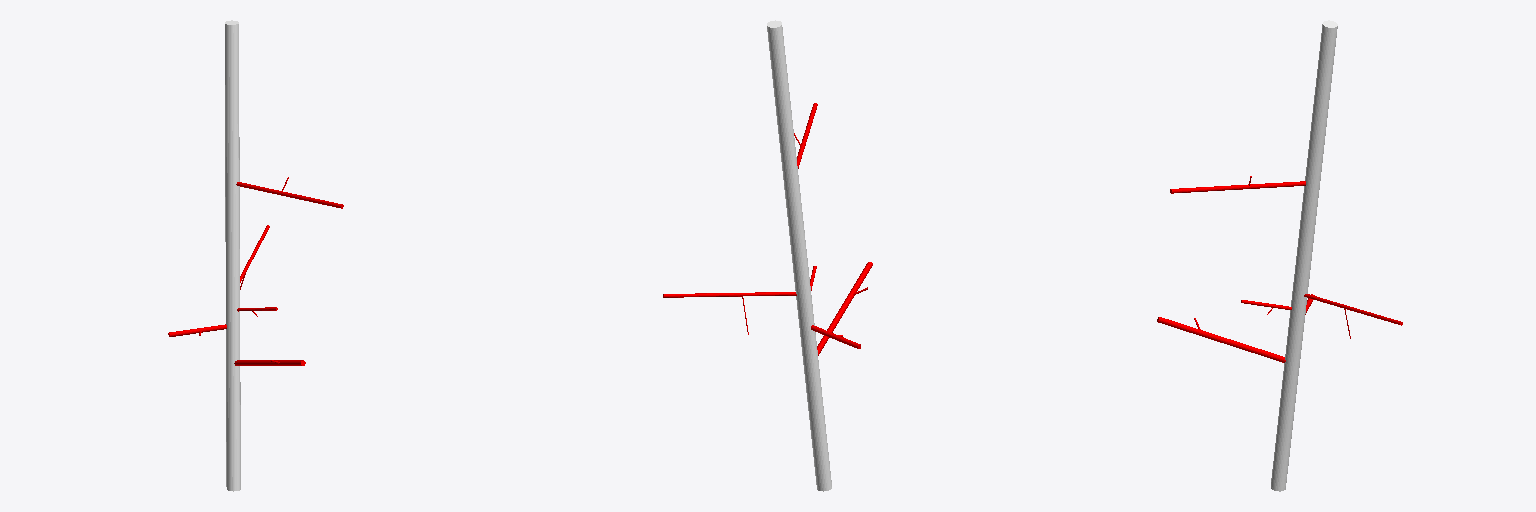
robot.urdf — tree_35.urdf:
<?xml version='1.0' encoding='UTF-8'?>
<robot name="tree_35.urdf">
  <link name="branch_0">
    <inertial>
      <origin xyz="0.0 0.0 0.0" rpy="0.0 -0.0 0.0"/>
      <mass value="0.1"/>
      <inertia ixx="0.001" ixy="0.0" ixz="0.0" iyy="0.001" iyz="0.0" izz="0.001"/>
    </inertial>
    <visual name="branch_0_visual">
      <geometry>
        <cylinder radius="0.17281251612219467" length="11.781987831568147"/>
      </geometry>
      <material name="branch_material"/>
      <origin xyz="0.30923097264299315 0.5812373137813293 5.854088204531214" rpy="6.938893903907228e-18 0.11199393156260055 1.0818605784850175"/>
    </visual>
    <collision name="branch_0_collision">
      <geometry>
        <cylinder radius="0.17281251612219467" length="11.781987831568147"/>
      </geometry>
      <origin xyz="0.30923097264299315 0.5812373137813293 5.854088204531214" rpy="6.938893903907228e-18 0.11199393156260055 1.0818605784850175"/>
    </collision>
  </link>
  <link name="branch_1">
    <inertial>
      <origin xyz="0.0 0.0 0.0" rpy="0.0 -0.0 0.0"/>
      <mass value="0.1"/>
      <inertia ixx="0.001" ixy="0.0" ixz="0.0" iyy="0.001" iyz="0.0" izz="0.001"/>
    </inertial>
    <visual name="branch_1_visual">
      <geometry>
        <cylinder radius="0.06662708268473544" length="3.2222090157283136"/>
      </geometry>
      <material name="semantic_material"/>
      <origin xyz="0.0 0.0 0.0" rpy="0.0 -0.0 0.0"/>
    </visual>
    <collision name="branch_1_collision">
      <geometry>
        <cylinder radius="0.06662708268473544" length="3.2222090157283136"/>
      </geometry>
      <origin xyz="0.0 0.0 0.0" rpy="0.0 -0.0 0.0"/>
    </collision>
  </link>
  <link name="branch_2">
    <inertial>
      <origin xyz="0.0 0.0 0.0" rpy="0.0 -0.0 0.0"/>
      <mass value="0.1"/>
      <inertia ixx="0.001" ixy="0.0" ixz="0.0" iyy="0.001" iyz="0.0" izz="0.001"/>
    </inertial>
    <visual name="branch_2_visual">
      <geometry>
        <cylinder radius="0.02242124012960376" length="0.4304683368627594"/>
      </geometry>
      <material name="semantic_material"/>
      <origin xyz="0.0 0.0 0.0" rpy="0.0 -0.0 0.0"/>
    </visual>
    <collision name="branch_2_collision">
      <geometry>
        <cylinder radius="0.02242124012960376" length="0.4304683368627594"/>
      </geometry>
      <origin xyz="0.0 0.0 0.0" rpy="0.0 -0.0 0.0"/>
    </collision>
  </link>
  <link name="branch_3">
    <inertial>
      <origin xyz="0.0 0.0 0.0" rpy="0.0 -0.0 0.0"/>
      <mass value="0.1"/>
      <inertia ixx="0.001" ixy="0.0" ixz="0.0" iyy="0.001" iyz="0.0" izz="0.001"/>
    </inertial>
    <visual name="branch_3_visual">
      <geometry>
        <cylinder radius="0.042496258016515104" length="3.2408282495725325"/>
      </geometry>
      <material name="semantic_material"/>
      <origin xyz="0.0 0.0 0.0" rpy="0.0 -0.0 0.0"/>
    </visual>
    <collision name="branch_3_collision">
      <geometry>
        <cylinder radius="0.042496258016515104" length="3.2408282495725325"/>
      </geometry>
      <origin xyz="0.0 0.0 0.0" rpy="0.0 -0.0 0.0"/>
    </collision>
  </link>
  <link name="branch_4">
    <inertial>
      <origin xyz="0.0 0.0 0.0" rpy="0.0 -0.0 0.0"/>
      <mass value="0.1"/>
      <inertia ixx="0.001" ixy="0.0" ixz="0.0" iyy="0.001" iyz="0.0" izz="0.001"/>
    </inertial>
    <visual name="branch_4_visual">
      <geometry>
        <cylinder radius="0.012256790819382522" length="0.9257433172745453"/>
      </geometry>
      <material name="semantic_material"/>
      <origin xyz="0.0 0.0 0.0" rpy="0.0 -0.0 0.0"/>
    </visual>
    <collision name="branch_4_collision">
      <geometry>
        <cylinder radius="0.012256790819382522" length="0.9257433172745453"/>
      </geometry>
      <origin xyz="0.0 0.0 0.0" rpy="0.0 -0.0 0.0"/>
    </collision>
  </link>
  <link name="branch_5">
    <inertial>
      <origin xyz="0.0 0.0 0.0" rpy="0.0 -0.0 0.0"/>
      <mass value="0.1"/>
      <inertia ixx="0.001" ixy="0.0" ixz="0.0" iyy="0.001" iyz="0.0" izz="0.001"/>
    </inertial>
    <visual name="branch_5_visual">
      <geometry>
        <cylinder radius="0.05863759270608225" length="1.601478747942819"/>
      </geometry>
      <material name="semantic_material"/>
      <origin xyz="0.0 0.0 0.0" rpy="0.0 -0.0 0.0"/>
    </visual>
    <collision name="branch_5_collision">
      <geometry>
        <cylinder radius="0.05863759270608225" length="1.601478747942819"/>
      </geometry>
      <origin xyz="0.0 0.0 0.0" rpy="0.0 -0.0 0.0"/>
    </collision>
  </link>
  <link name="branch_6">
    <inertial>
      <origin xyz="0.0 0.0 0.0" rpy="0.0 -0.0 0.0"/>
      <mass value="0.1"/>
      <inertia ixx="0.001" ixy="0.0" ixz="0.0" iyy="0.001" iyz="0.0" izz="0.001"/>
    </inertial>
    <visual name="branch_6_visual">
      <geometry>
        <cylinder radius="0.02140080327582311" length="0.23647142903980306"/>
      </geometry>
      <material name="semantic_material"/>
      <origin xyz="0.0 0.0 0.0" rpy="0.0 -0.0 0.0"/>
    </visual>
    <collision name="branch_6_collision">
      <geometry>
        <cylinder radius="0.02140080327582311" length="0.23647142903980306"/>
      </geometry>
      <origin xyz="0.0 0.0 0.0" rpy="0.0 -0.0 0.0"/>
    </collision>
  </link>
  <link name="branch_7">
    <inertial>
      <origin xyz="0.0 0.0 0.0" rpy="0.0 -0.0 0.0"/>
      <mass value="0.1"/>
      <inertia ixx="0.001" ixy="0.0" ixz="0.0" iyy="0.001" iyz="0.0" izz="0.001"/>
    </inertial>
    <visual name="branch_7_visual">
      <geometry>
        <cylinder radius="0.04051167022386662" length="1.415937256155215"/>
      </geometry>
      <material name="semantic_material"/>
      <origin xyz="0.0 0.0 0.0" rpy="0.0 -0.0 0.0"/>
    </visual>
    <collision name="branch_7_collision">
      <geometry>
        <cylinder radius="0.04051167022386662" length="1.415937256155215"/>
      </geometry>
      <origin xyz="0.0 0.0 0.0" rpy="0.0 -0.0 0.0"/>
    </collision>
  </link>
  <link name="branch_8">
    <inertial>
      <origin xyz="0.0 0.0 0.0" rpy="0.0 -0.0 0.0"/>
      <mass value="0.1"/>
      <inertia ixx="0.001" ixy="0.0" ixz="0.0" iyy="0.001" iyz="0.0" izz="0.001"/>
    </inertial>
    <visual name="branch_8_visual">
      <geometry>
        <cylinder radius="0.013027431415242175" length="0.2555912185503097"/>
      </geometry>
      <material name="semantic_material"/>
      <origin xyz="0.0 0.0 0.0" rpy="0.0 -0.0 0.0"/>
    </visual>
    <collision name="branch_8_collision">
      <geometry>
        <cylinder radius="0.013027431415242175" length="0.2555912185503097"/>
      </geometry>
      <origin xyz="0.0 0.0 0.0" rpy="0.0 -0.0 0.0"/>
    </collision>
  </link>
  <link name="branch_9">
    <inertial>
      <origin xyz="0.0 0.0 0.0" rpy="0.0 -0.0 0.0"/>
      <mass value="0.1"/>
      <inertia ixx="0.001" ixy="0.0" ixz="0.0" iyy="0.001" iyz="0.0" izz="0.001"/>
    </inertial>
    <visual name="branch_9_visual">
      <geometry>
        <cylinder radius="0.0523091656155911" length="3.4015759633831024"/>
      </geometry>
      <material name="semantic_material"/>
      <origin xyz="0.0 0.0 0.0" rpy="0.0 -0.0 0.0"/>
    </visual>
    <collision name="branch_9_collision">
      <geometry>
        <cylinder radius="0.0523091656155911" length="3.4015759633831024"/>
      </geometry>
      <origin xyz="0.0 0.0 0.0" rpy="0.0 -0.0 0.0"/>
    </collision>
  </link>
  <link name="branch_10">
    <inertial>
      <origin xyz="0.0 0.0 0.0" rpy="0.0 -0.0 0.0"/>
      <mass value="0.1"/>
      <inertia ixx="0.001" ixy="0.0" ixz="0.0" iyy="0.001" iyz="0.0" izz="0.001"/>
    </inertial>
    <visual name="branch_10_visual">
      <geometry>
        <cylinder radius="0.01603352755004943" length="0.4193769244323671"/>
      </geometry>
      <material name="semantic_material"/>
      <origin xyz="0.0 0.0 0.0" rpy="0.0 -0.0 0.0"/>
    </visual>
    <collision name="branch_10_collision">
      <geometry>
        <cylinder radius="0.01603352755004943" length="0.4193769244323671"/>
      </geometry>
      <origin xyz="0.0 0.0 0.0" rpy="0.0 -0.0 0.0"/>
    </collision>
  </link>
  <joint name="joint_0_1" type="fixed">
    <parent link="branch_0"/>
    <child link="branch_1"/>
    <axis xyz="1. 0. 0."/>
    <origin xyz="0.27035075931106006 -1.1848366544919495 3.7454344075298036" rpy="-0.15743763455383528 1.196729228028892 -1.6709658048090013"/>
  </joint>
  <joint name="joint_0_3" type="fixed">
    <parent link="branch_0"/>
    <child link="branch_3"/>
    <axis xyz="1. 0. 0."/>
    <origin xyz="1.4037129549712224 1.6223424515015938 5.06750657257499" rpy="-0.3230811565168166 1.4646476197790117 0.4565505086884354"/>
  </joint>
  <joint name="joint_0_5" type="fixed">
    <parent link="branch_0"/>
    <child link="branch_5"/>
    <axis xyz="1. 0. 0."/>
    <origin xyz="-0.5637499145193002 0.5859830940694505 4.091306890243928" rpy="1.7040354183945872 1.4616336919260697 -1.6633228577271637"/>
  </joint>
  <joint name="joint_0_7" type="fixed">
    <parent link="branch_0"/>
    <child link="branch_7"/>
    <axis xyz="1. 0. 0."/>
    <origin xyz="0.47620960366615006 -0.18487243504784023 4.712964562026346" rpy="-0.26697980750737005 1.2537466029443667 -1.4900507118372652"/>
  </joint>
  <joint name="joint_0_9" type="fixed">
    <parent link="branch_0"/>
    <child link="branch_9"/>
    <axis xyz="1. 0. 0."/>
    <origin xyz="1.0115097966221354 -0.8151953509283608 7.875701587966733" rpy="-0.6671936420386164 1.4348143121478325 -1.8766066231049185"/>
  </joint>
  <joint name="joint_1_2" type="fixed">
    <parent link="branch_0"/>
    <child link="branch_2"/>
    <axis xyz="1. 0. 0."/>
    <origin xyz="0.13248329985961818 -1.7894181977732218 4.053833309092304" rpy="-1.066877941233339 0.17054308323089873 2.0631021213862453"/>
  </joint>
  <joint name="joint_3_4" type="fixed">
    <parent link="branch_0"/>
    <child link="branch_4"/>
    <axis xyz="1. 0. 0."/>
    <origin xyz="1.1415878857567572 1.5455018636614881 4.60407786420257" rpy="2.8531872576478516 -0.06609427652299697 -2.310774589950731"/>
  </joint>
  <joint name="joint_5_6" type="fixed">
    <parent link="branch_0"/>
    <child link="branch_6"/>
    <axis xyz="1. 0. 0."/>
    <origin xyz="-0.6340876502314137 0.4932013265704162 4.074012374540321" rpy="1.7179486810534161 0.0514166810878603 -0.6510159006579942"/>
  </joint>
  <joint name="joint_7_8" type="fixed">
    <parent link="branch_0"/>
    <child link="branch_8"/>
    <axis xyz="1. 0. 0."/>
    <origin xyz="0.4897842416537696 -0.16428973165005062 4.595023329073841" rpy="2.8826064202717028 0.8280601034606518 1.7945654886051958"/>
  </joint>
  <joint name="joint_9_10" type="fixed">
    <parent link="branch_0"/>
    <child link="branch_10"/>
    <axis xyz="1. 0. 0."/>
    <origin xyz="1.0552794106688752 -0.6273224218221495 8.035277246078683" rpy="0.5487578958776443 -0.04750452525068464 1.8422401990278496"/>
  </joint>
  <material name="branch_material">
    <color rgba="1. 1. 1. 1."/>
  </material>
  <material name="semantic_material">
    <color rgba="1. 0. 0. 1."/>
  </material>
</robot>

--- Render facts (derived) ---
The picture shows the robot from 3 angles, left to right: view 1: azimuth 30°, elevation 25°; view 2: azimuth 150°, elevation 25°; view 3: azimuth 270°, elevation 25°; orthographic projection.
Robot: tree_35.urdf — 11 links, 10 joints (10 fixed); root link branch_0; default pose: every joint at zero.
Visible links, largest first — view 1: branch_0; view 2: branch_0, branch_1; view 3: branch_0, branch_1, branch_9.
Link boxes in pixels (left/top/right/bottom): branch_0: left=225, top=20, right=240, bottom=491; branch_0: left=767, top=20, right=831, bottom=491; branch_1: left=817, top=262, right=872, bottom=355; branch_0: left=1271, top=20, right=1337, bottom=491; branch_1: left=1157, top=317, right=1285, bottom=362; branch_9: left=1170, top=181, right=1305, bottom=193.
Size in the robot's own frame: 3.94 by 5.5 by 11.75 metres.
Geometry: primitives only (box / cylinder / sphere), no mesh files.
